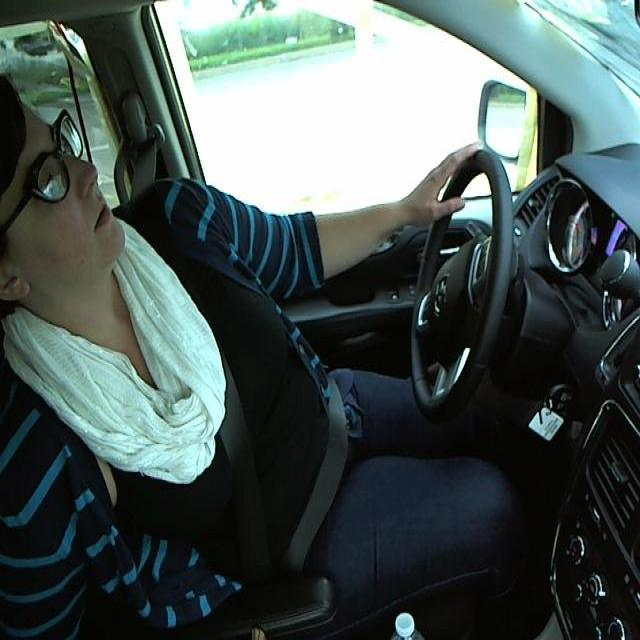seatbelt: (212, 385, 392, 536)
